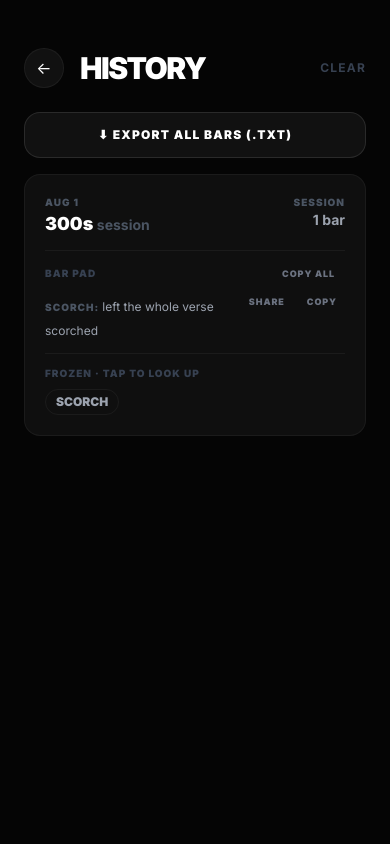
Test: History: a frozen word can be looked up again › the chip is a button that opens the reference on that word
Click the button with aria-label "Look up scorch": (82, 402) [45,388,119,414]
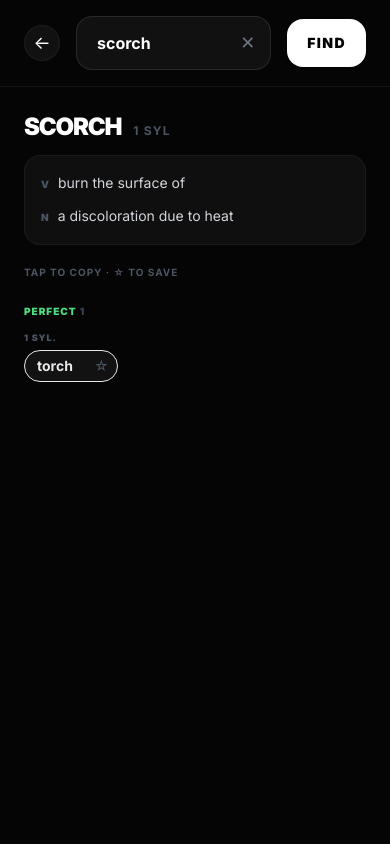
expect the text "burn the surface of" is shown: met, box [58,174,185,191]
expect the field with placeholder "Enter any word…" holds "scorch": met, box [76,16,271,70]
